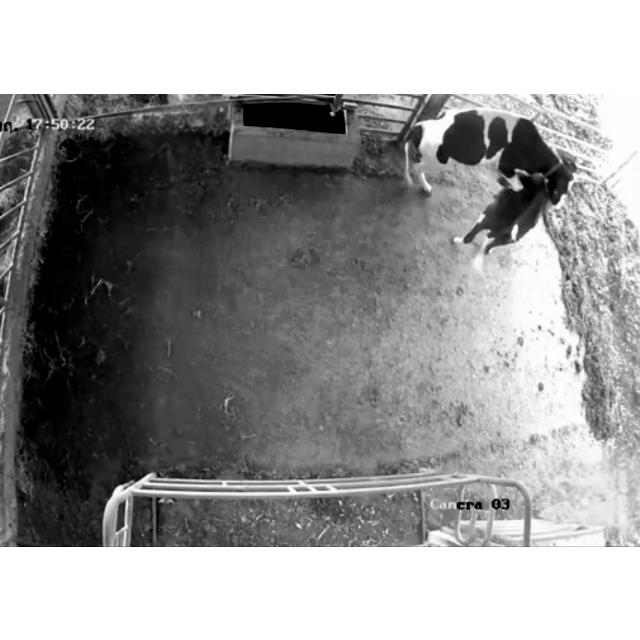ride: (398, 102, 572, 210)
